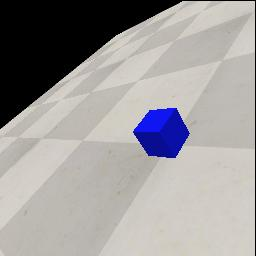box: (133, 108, 190, 158)
